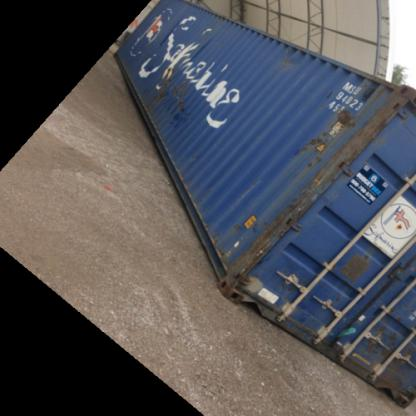Damage: (232, 190, 324, 257), (372, 325, 414, 385), (147, 65, 195, 114), (341, 244, 375, 288), (297, 128, 332, 168), (331, 96, 354, 131), (277, 48, 302, 73)
